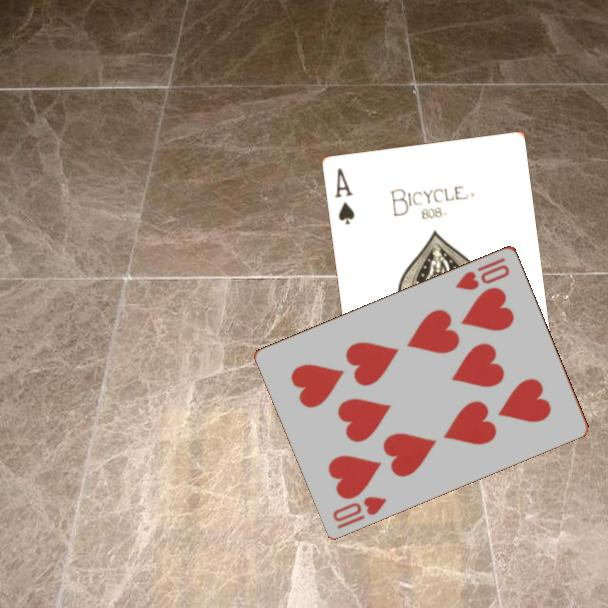h10: (329, 492, 389, 532), (452, 254, 513, 293)
s01: (331, 164, 357, 227)
